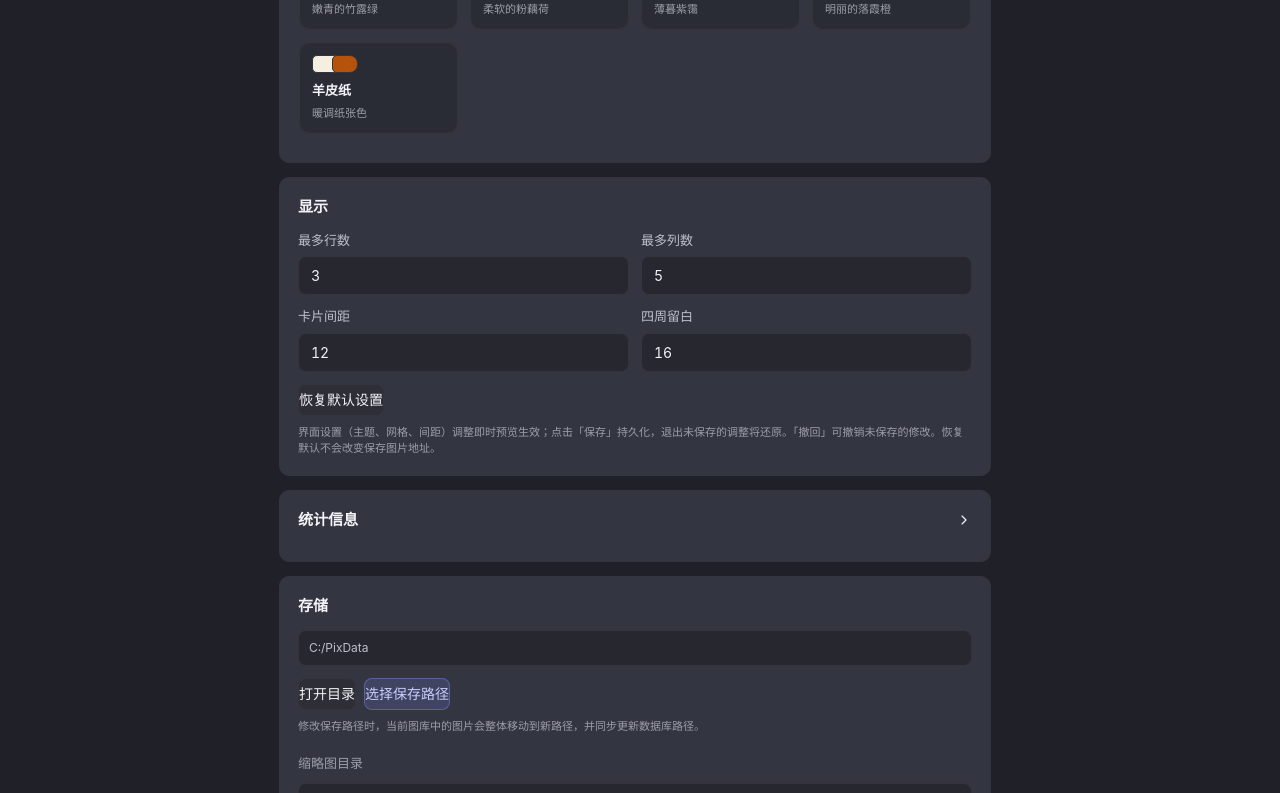
Test case: SettingsPage › 点击「恢复默认设置」弹出确认框，确认后回到默认值
(page scrolled)
Expected: the text "C:/PixData" is shown, [298, 630, 972, 666]
Click the button "恢复默认设置" at (341, 400), box [298, 384, 384, 416]
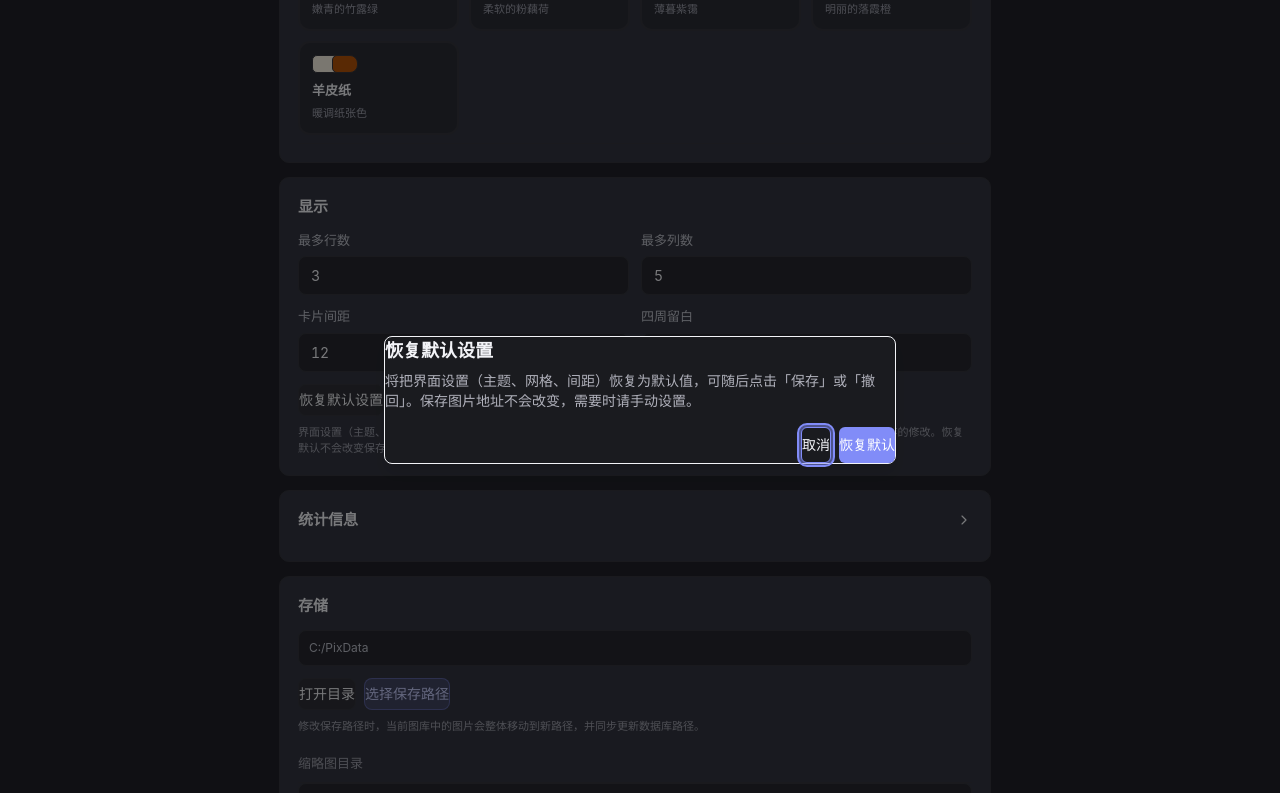
Expected: the text "将把界面设置（主题、网格、间距）恢复为默认值，可随后点击「保存」或「撤回」。保存图片地址不会改变，需要时请手动设置。" is shown, [385, 371, 895, 411]
Click the button "恢复默认" at (867, 445), box [839, 427, 895, 463]
(page scrolled)
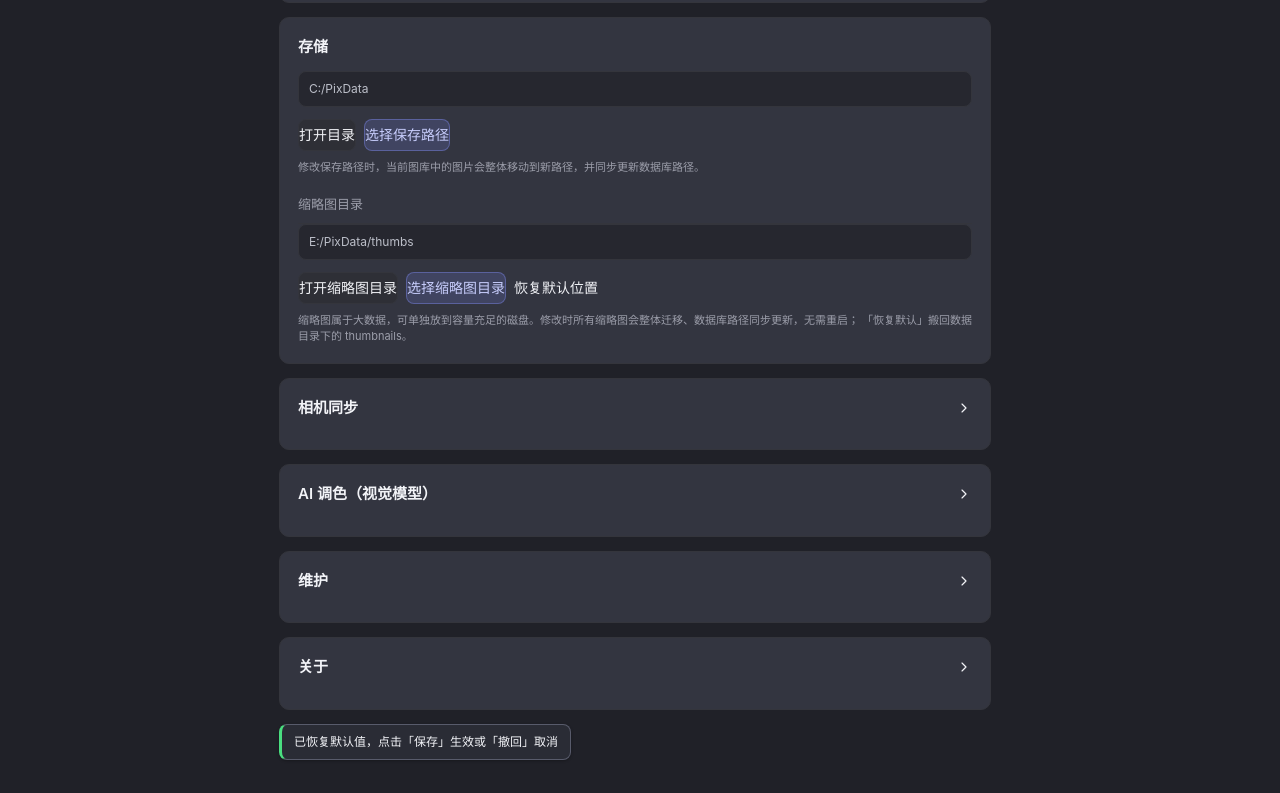
Expected: the text "已恢复默认值，点击「保存」生效或「撤回」取消" is shown, [279, 724, 571, 760]
